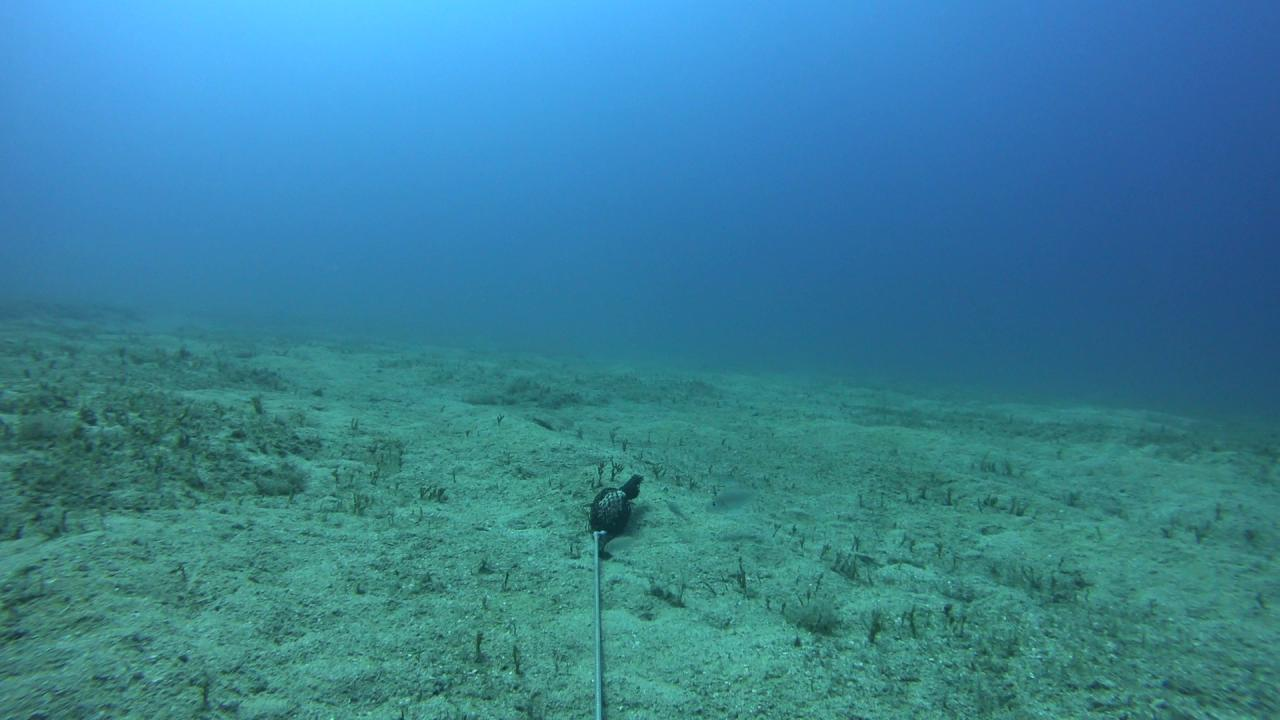pagellus: (705, 479, 768, 516)
